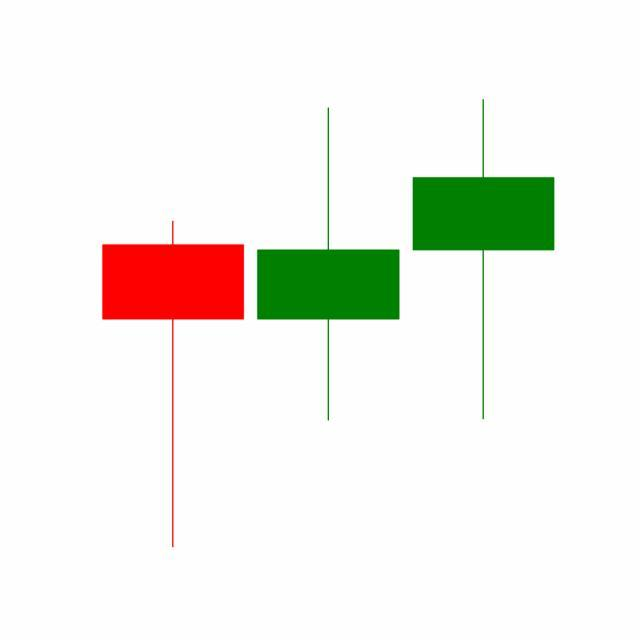Spinning Top: (250, 104, 407, 425)
